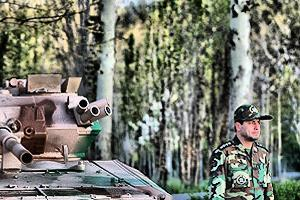tanks: (1, 76, 171, 200)
